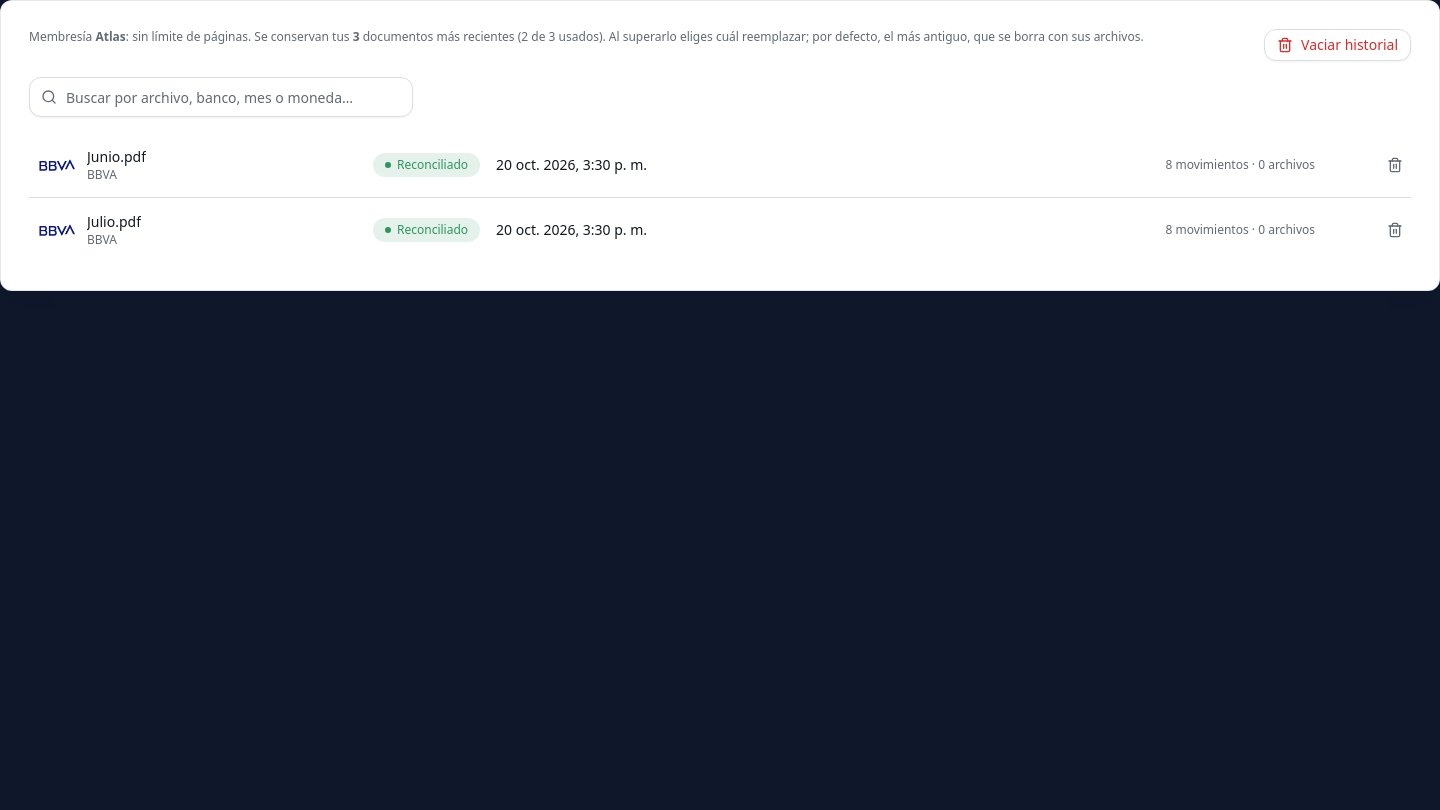
it: Borrar documentos del historial › borra uno tras confirmarlo y avisa
The image size is (1440, 810).
Click the button named "Borrar Junio.pdf" at [1395, 165], box [1379,149,1411,181]
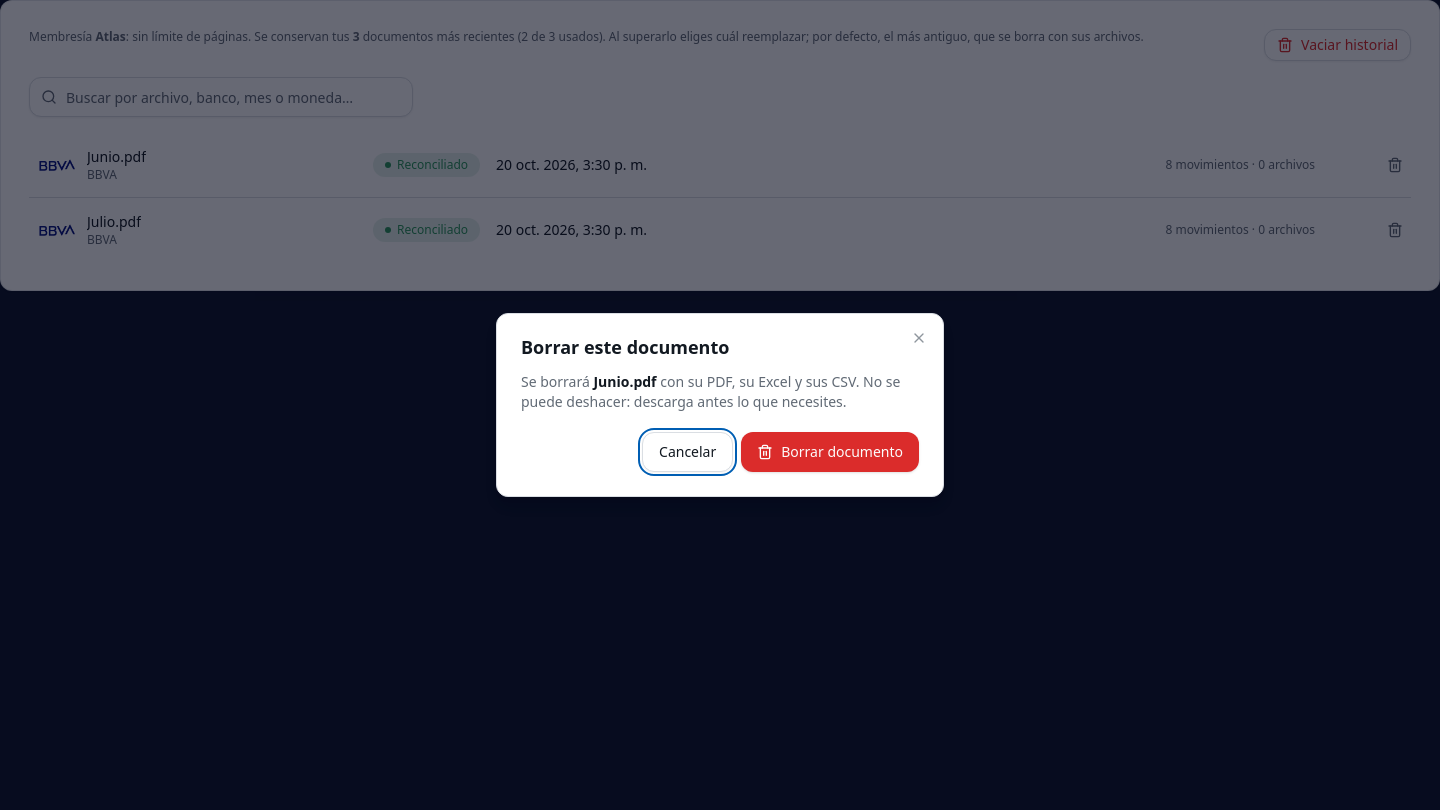
expect the text "Junio.pdf" is shown: met, box [593,372,656,391]
Click the button "Borrar documento" at [830, 452], box [741,432,919,472]
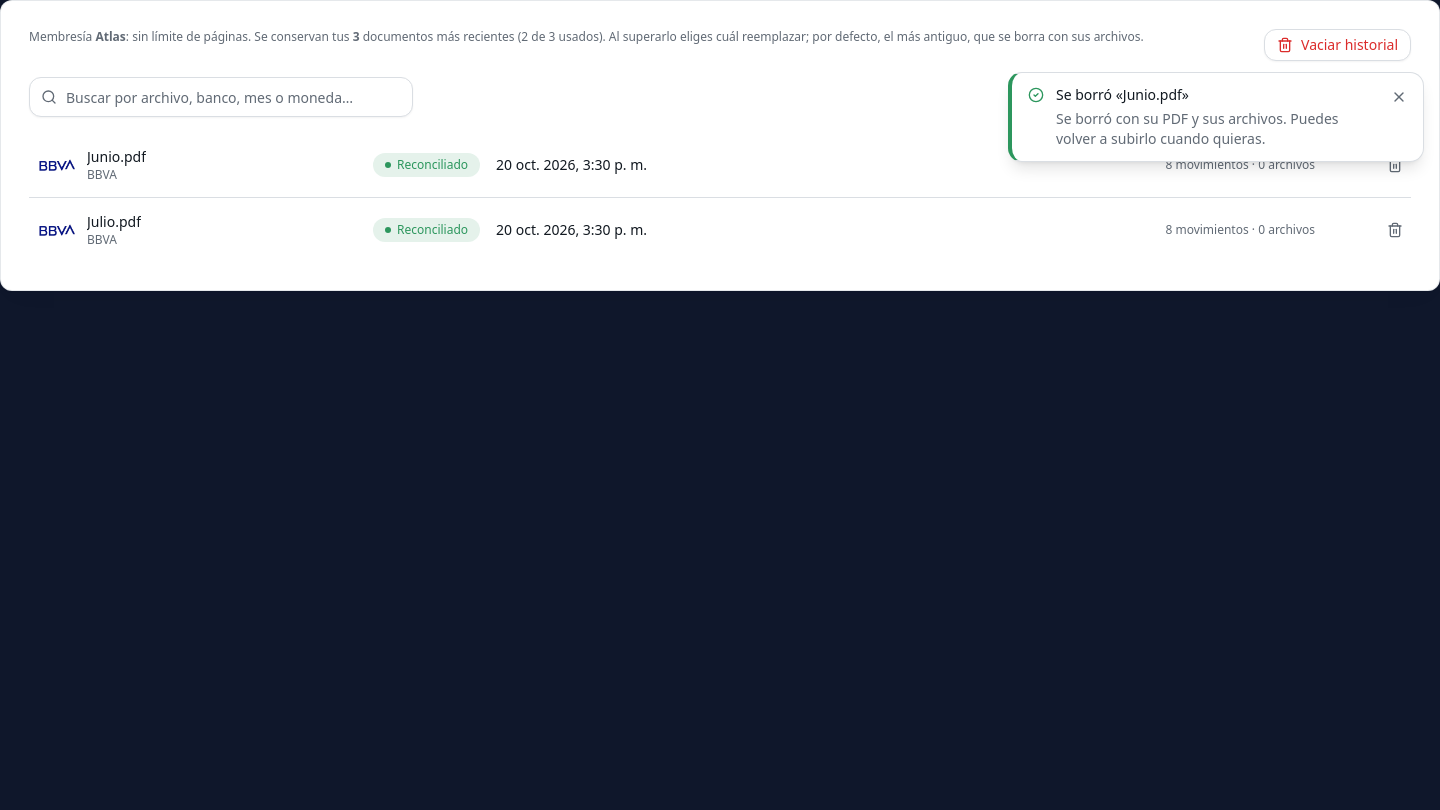
expect the text "Se borró «Junio.pdf»" is shown: met, box [1055,84,1189,104]
expect the dialog is gone: met
